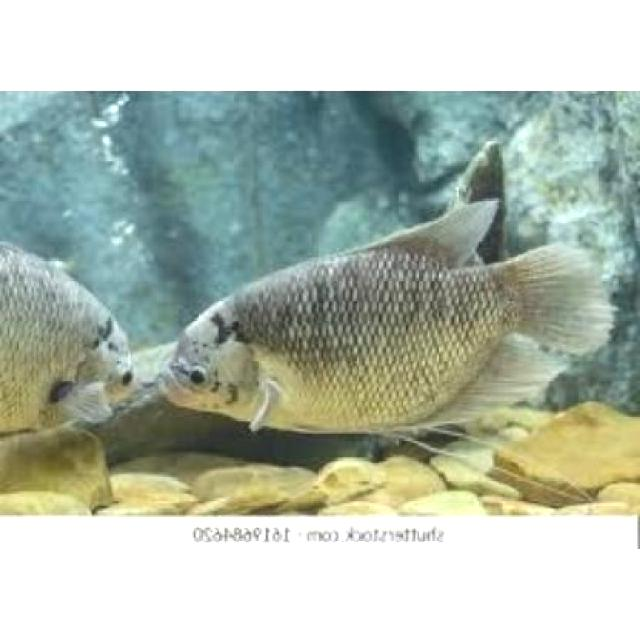gurame: (162, 216, 595, 442), (1, 234, 140, 443)
